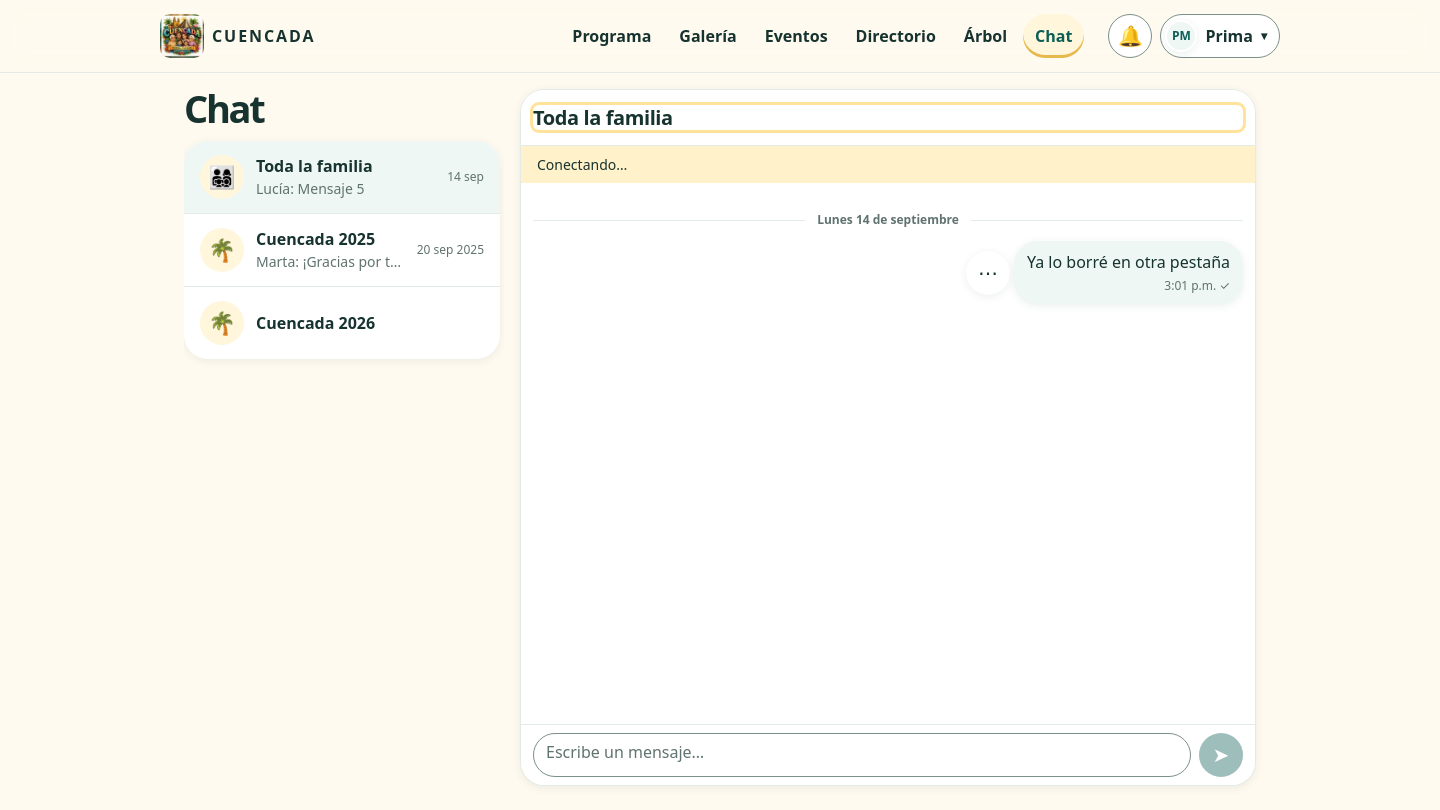
Test: ChatPage › treats a 404 on delete as already gone
The width and height of the screenshot is (1440, 810).
Expected: the text "Ya lo borré en otra pestaña" is shown, [1027,251,1230,273]
Click the button named "Opciones del mensaje de Tú" at (988, 273), box [966,251,1010,295]
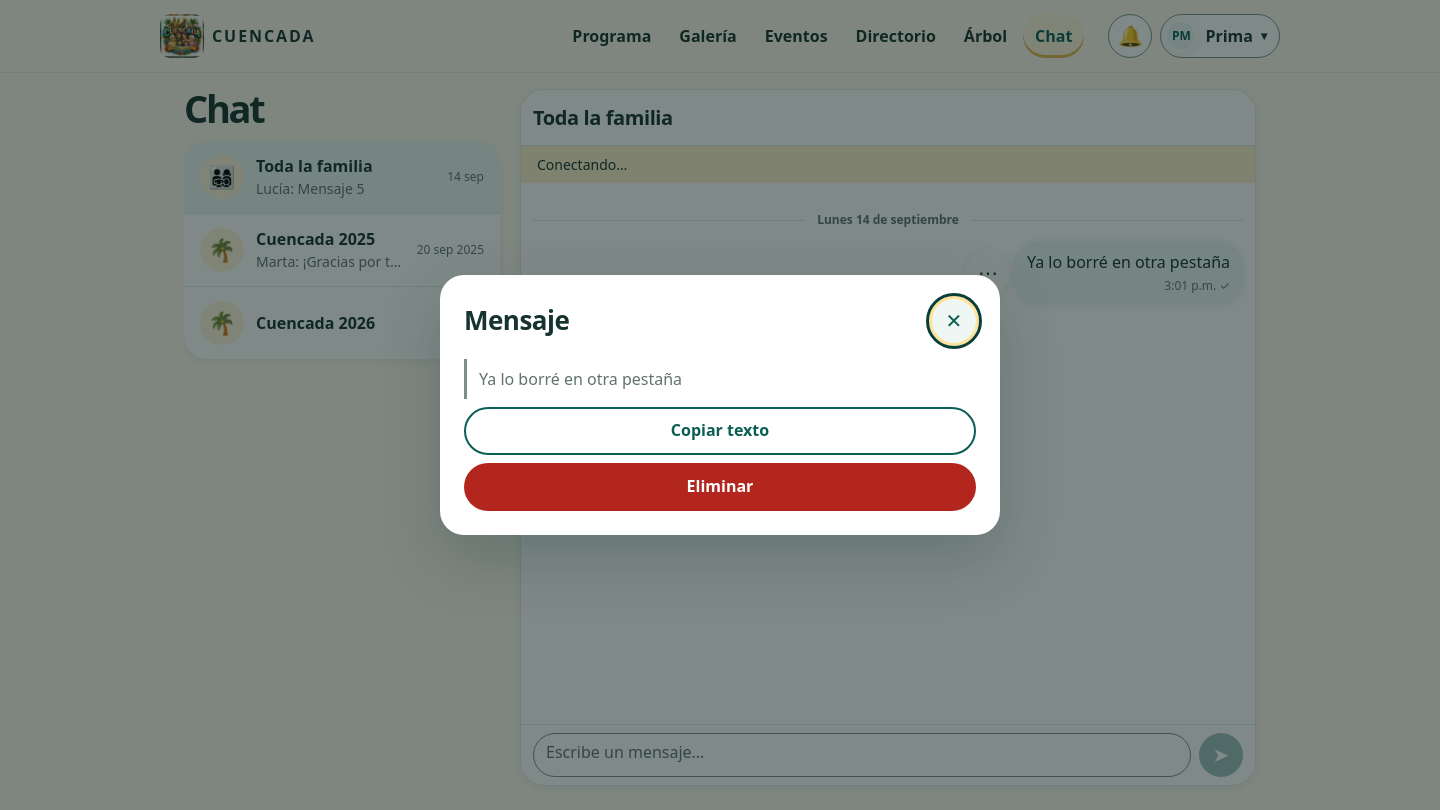
Click the button "Eliminar" at (720, 487), box [464,463,976,511]
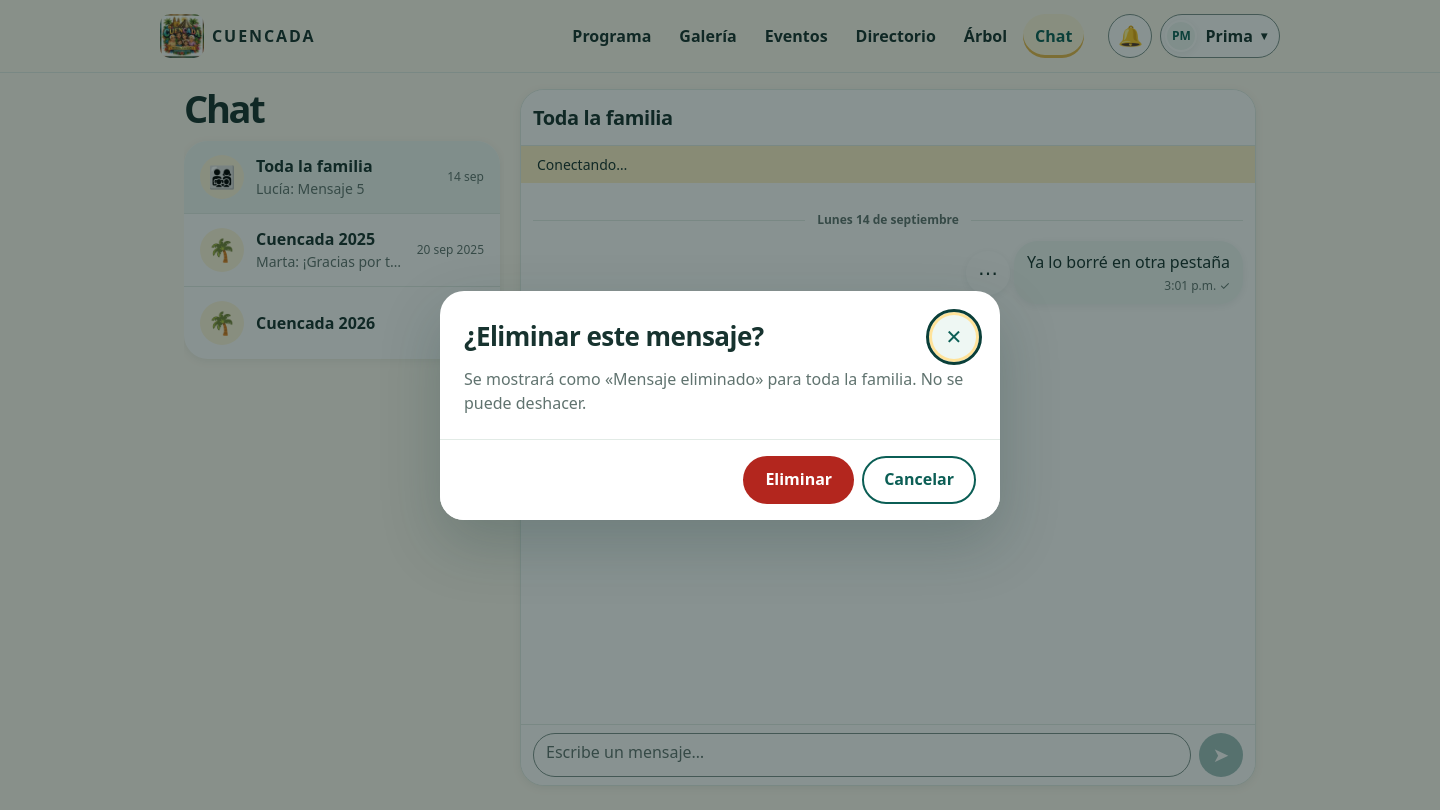
Click the button "Eliminar" at (799, 480), box [743,456,854,504]
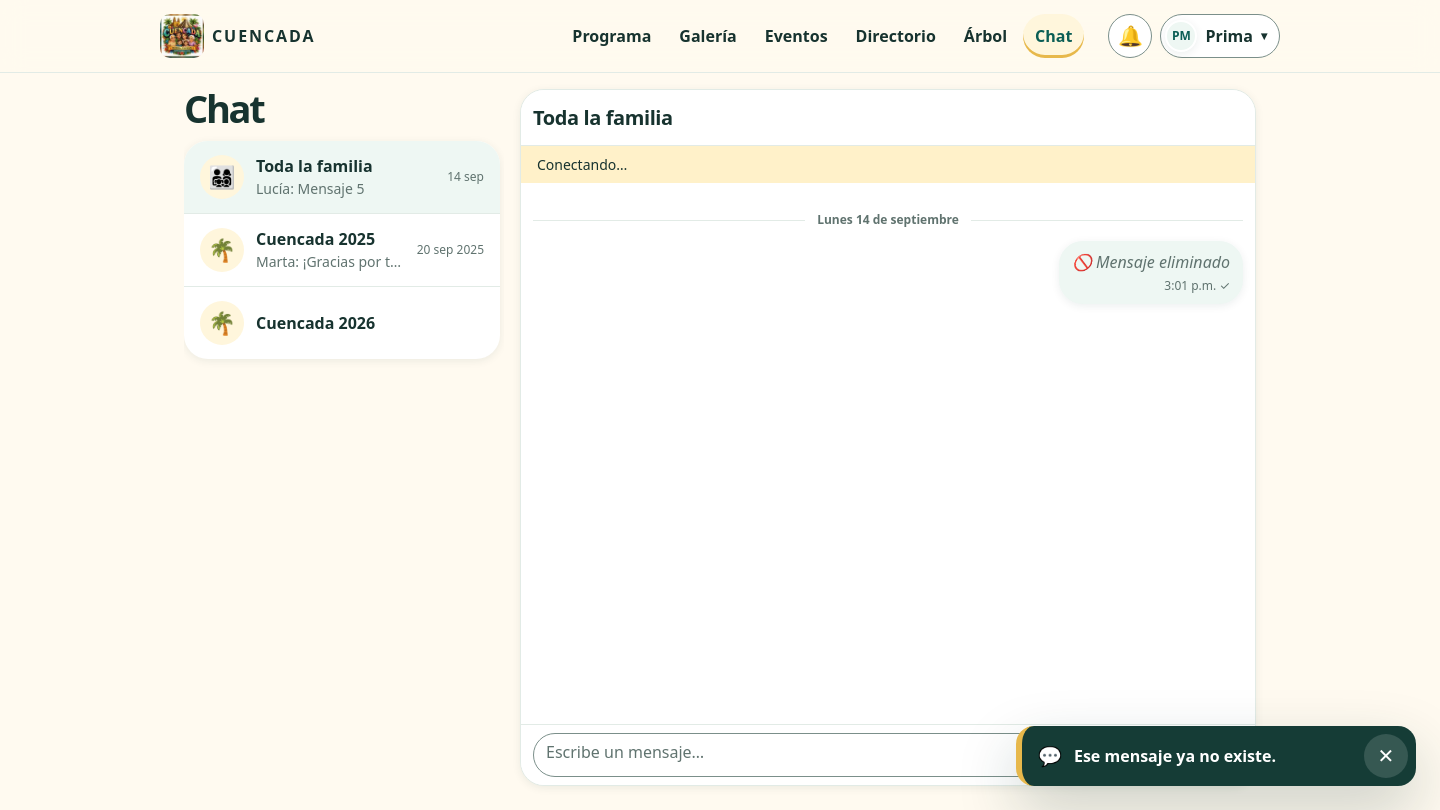
Now the text "Ese mensaje ya no existe." is shown, box [1074,745,1276,767]
Now the text "🚫 Mensaje eliminado" is shown, box [1072,251,1230,273]
